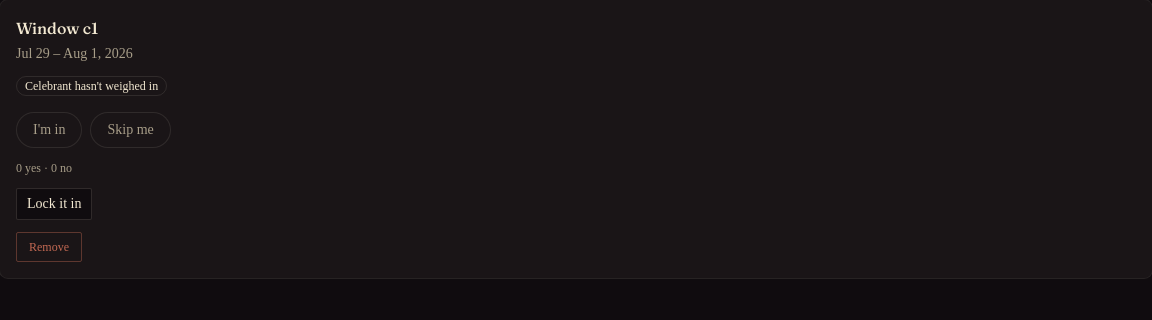
Test: MemberView lock-in two-step confirm (#454) › first tap arms the confirm line instead of committing
Click the button "Lock it in" at (54, 204), box [16, 188, 92, 220]
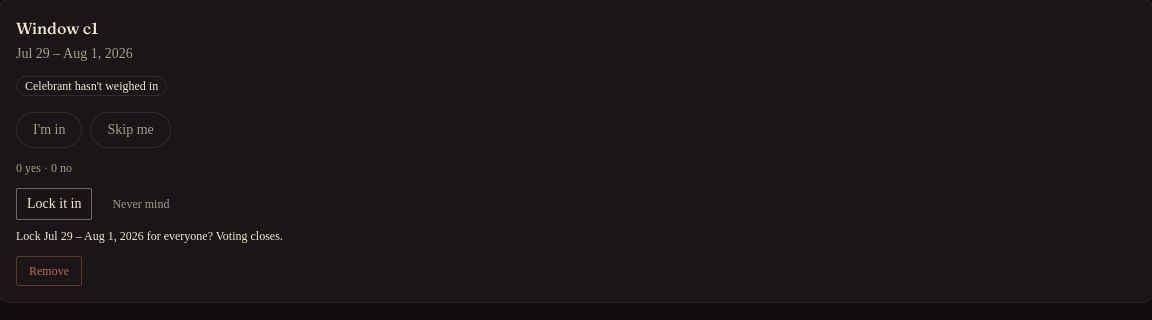
Result: the button "Never mind" is shown at [100, 190, 181, 218]
